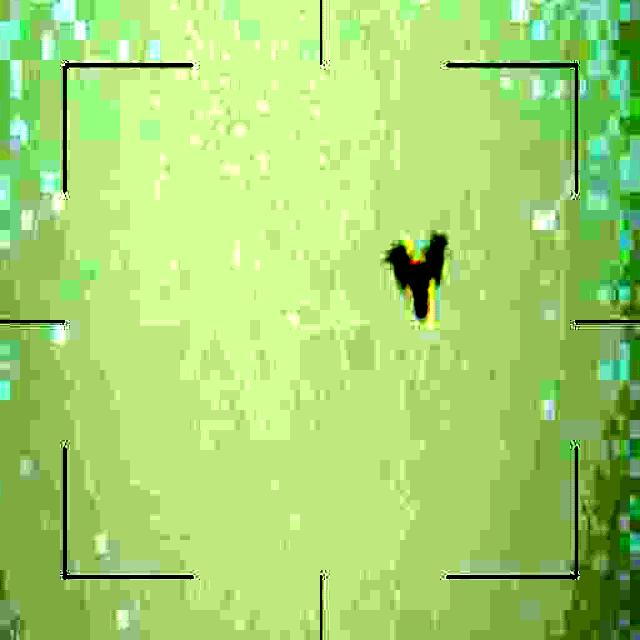bird: (389, 232, 449, 329)
